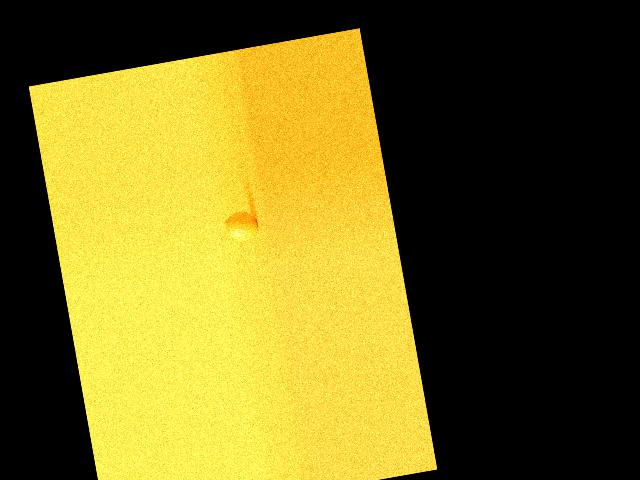lemon: (219, 206, 261, 251)
